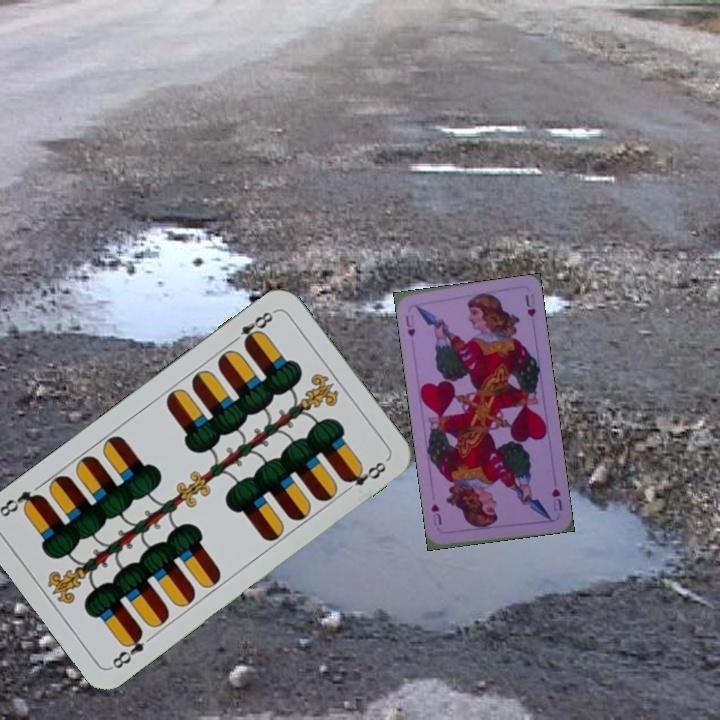E8: (227, 307, 278, 349), (108, 626, 148, 672)
HU: (547, 485, 565, 514), (401, 310, 418, 340)
